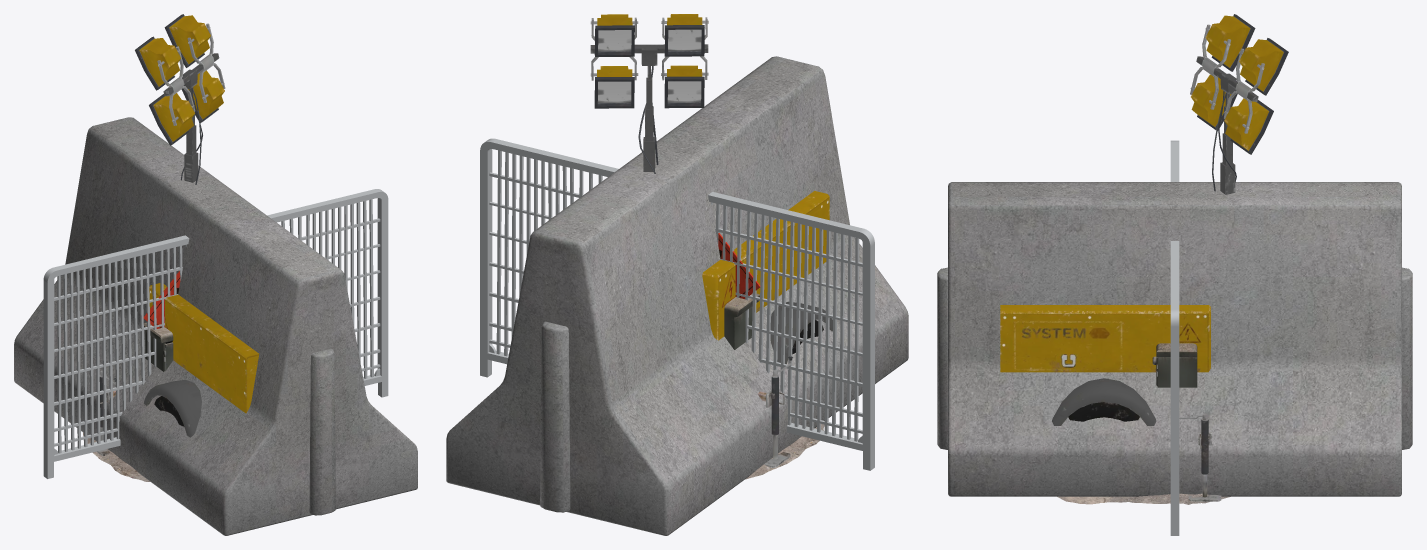
The model's file is v5works.glb.
3 renders of one model, left to right at view 1: azimuth 30°, elevation 25°; view 2: azimuth 150°, elevation 25°; view 3: azimuth 270°, elevation 25°, orthographic. The views are drawn at different scales.
Parts seen in each view (by area): view 1: jersey, fence, ltower, tbox, sand, wsign; view 2: jersey, fence, ltower, tbox, wsign, sand; view 3: jersey, ltower, fence, tbox, sand.
Boxes of the visible parts, x1,y1,x2,y2 form: jersey: (14,117,417,535); fence: (43,189,388,478); ltower: (94,14,259,455); tbox: (143,322,173,371); sand: (83,432,150,481); wsign: (143,271,180,328); jersey: (446,56,908,535); fence: (480,138,874,470); ltower: (590,14,832,467); tbox: (724,293,759,349); wsign: (718,233,760,299); sand: (745,424,824,479); jersey: (937,182,1412,496); ltower: (1000,14,1288,501); fence: (1170,140,1179,535); tbox: (1152,343,1197,387); sand: (1057,493,1230,504).
Bounding box in the file's own units: 3.37 × 3.6 × 3.8.
Materials: 11 (10 with a texture image).
